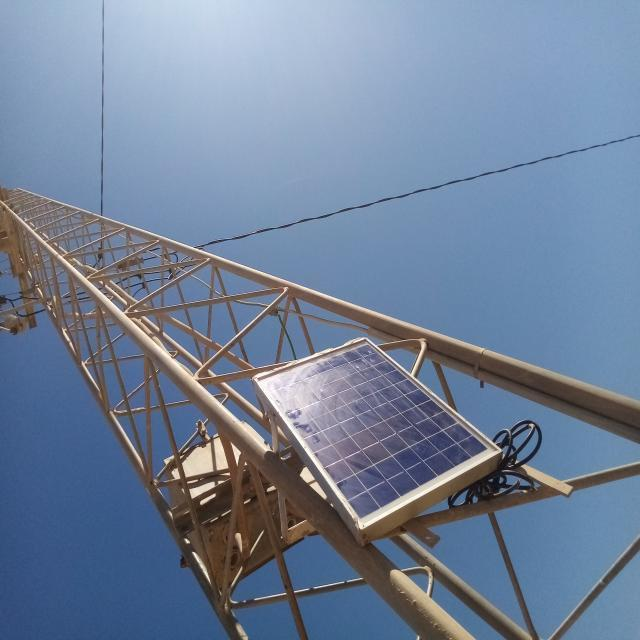Normal Solar Panel: (256, 337, 501, 528)
